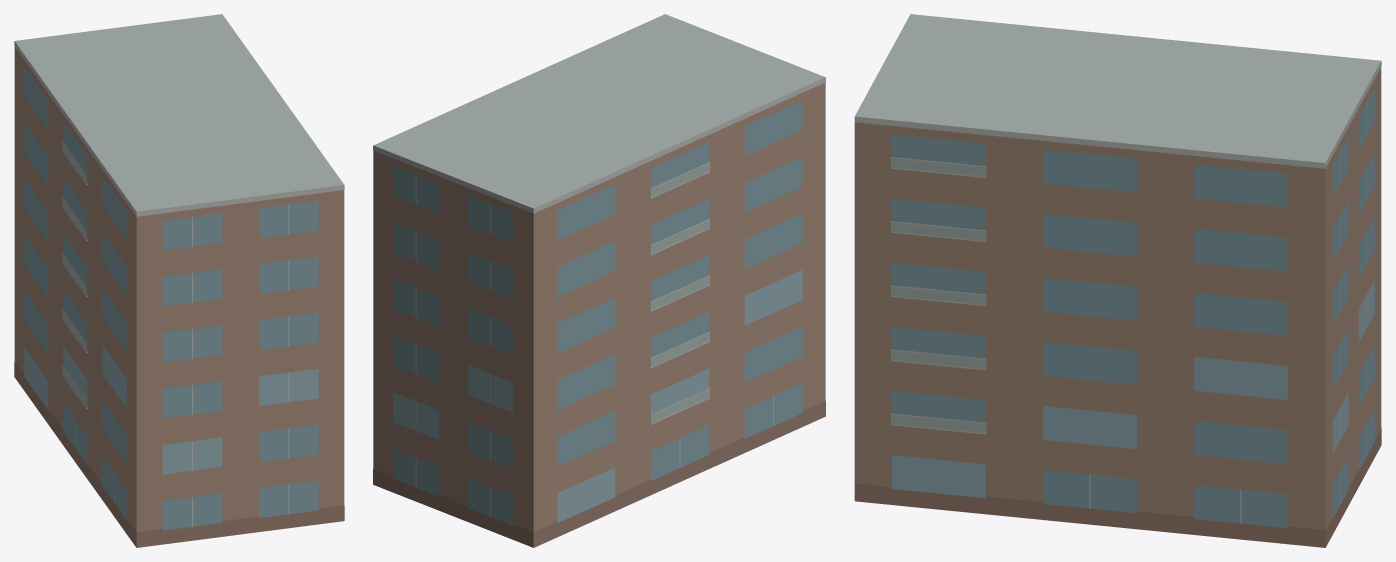
Rendered from survey-upis-32529239.glb.
The picture shows the model from 3 angles, left to right: view 1: azimuth 30°, elevation 25°; view 2: azimuth 150°, elevation 25°; view 3: azimuth 270°, elevation 25°; orthographic projection. The views are drawn at different scales.
Visible parts, largest first — view 1: survey-upis-32529239.tmp; view 2: survey-upis-32529239.tmp; view 3: survey-upis-32529239.tmp.
Part boxes in pixels (box(x1,y1,x2,y2)): survey-upis-32529239.tmp: box(14, 14, 344, 547); survey-upis-32529239.tmp: box(373, 14, 825, 547); survey-upis-32529239.tmp: box(854, 14, 1381, 547).
Size of the model in its own units: 13.65 by 16.4 by 20.36.
